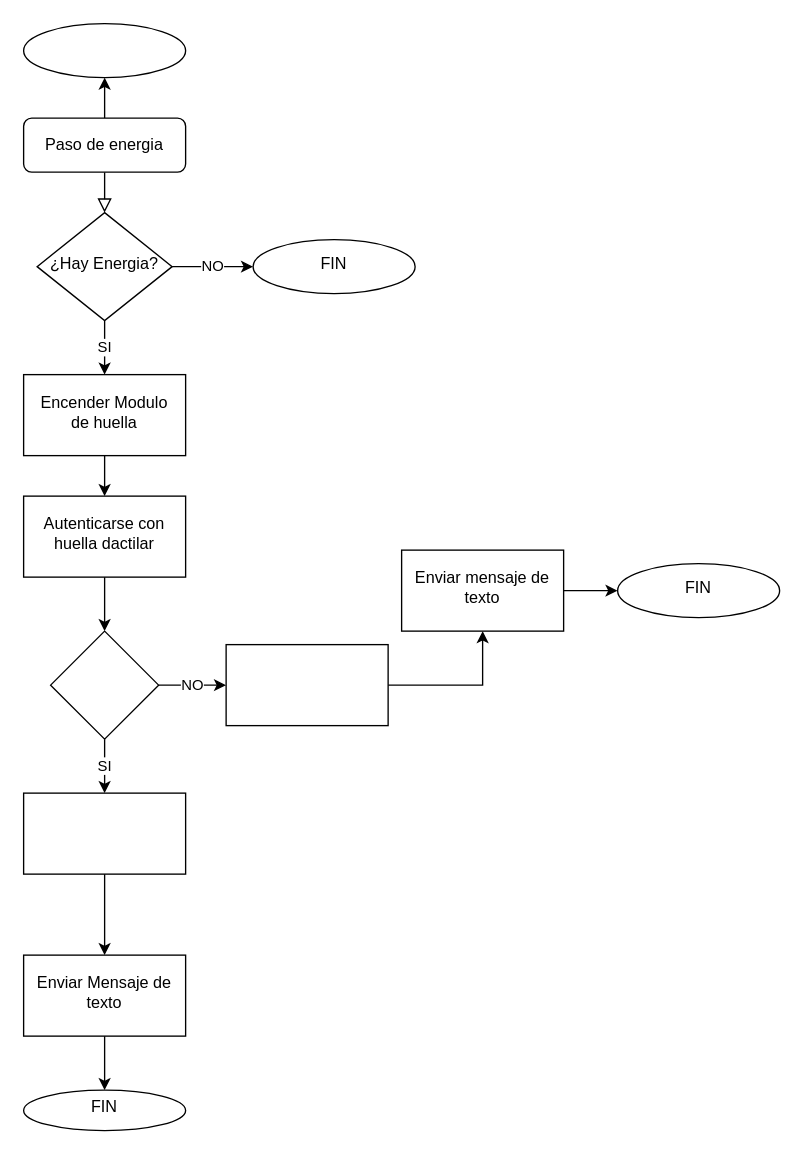
Image size: 803x1154. Some labels were removed from this diagram. Each missing label, with the box of its shape:
Activar Alarma: (225, 643, 388, 726)
Encender la motocicleta: (22, 792, 186, 874)
INICIO: (22, 22, 186, 78)
¿Es el propietario?: (49, 630, 159, 739)
